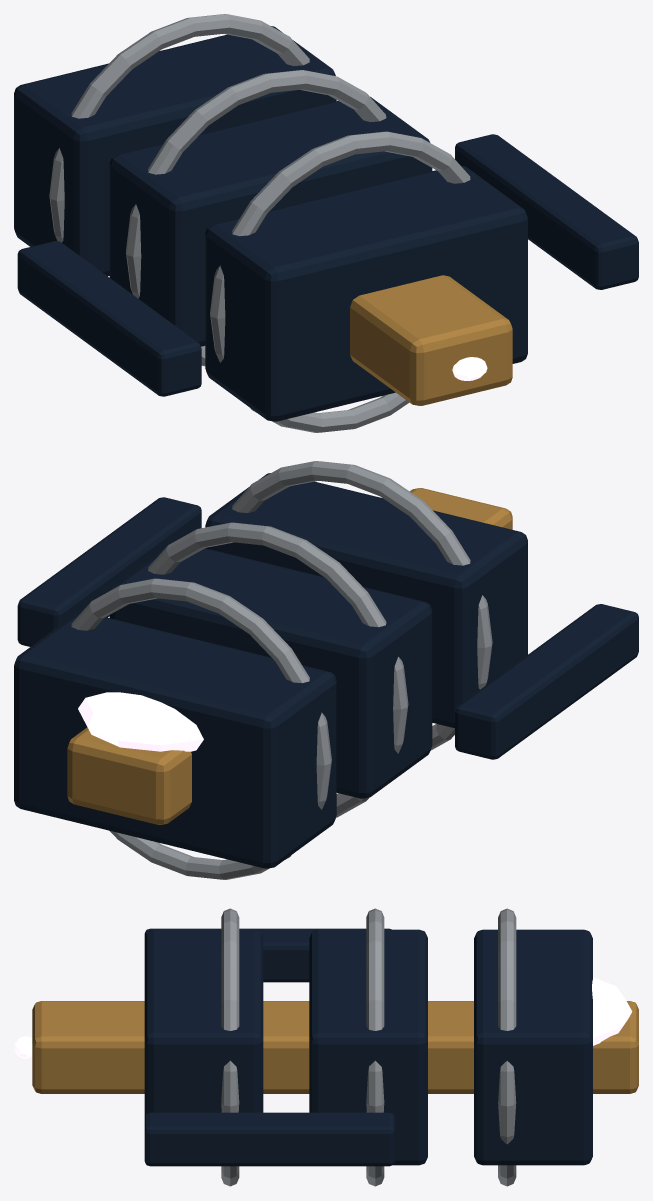
The picture shows the model from 3 angles, top to bottom: view 1: azimuth 30°, elevation 25°; view 2: azimuth 150°, elevation 25°; view 3: azimuth 270°, elevation 25°; orthographic projection. The views are drawn at different scales.
Visible parts, largest first — view 1: RIMWARD_HULL, RIMWARD_ENGINE_GLOW; view 2: RIMWARD_HULL, RIMWARD_EMISSIVE; view 3: RIMWARD_HULL, RIMWARD_EMISSIVE.
Boxes of the visible parts, x1,y1,x2,y2 form: RIMWARD_HULL: (14,14,638,432); RIMWARD_ENGINE_GLOW: (452,357,487,380); RIMWARD_HULL: (14,461,638,879); RIMWARD_EMISSIVE: (78,692,203,751); RIMWARD_HULL: (32,908,638,1186); RIMWARD_EMISSIVE: (592,977,632,1045).
Size of the model in its own units: 61.71 by 36 by 80.58.
